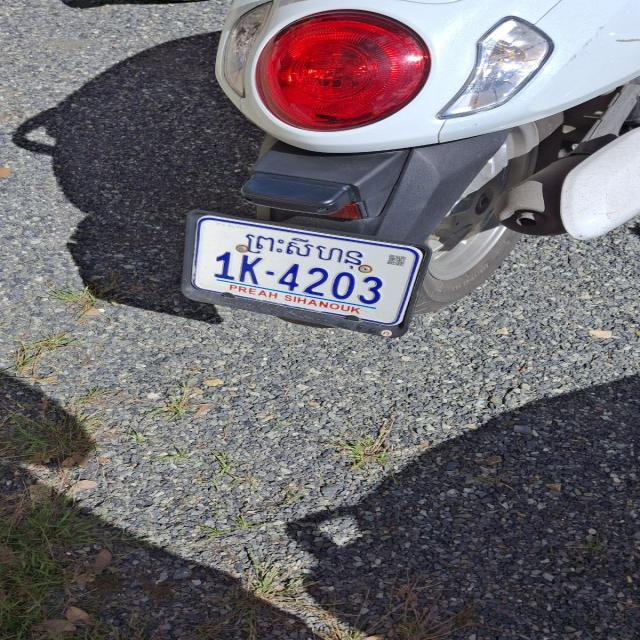Yolov11kh: (222, 228, 382, 273)
